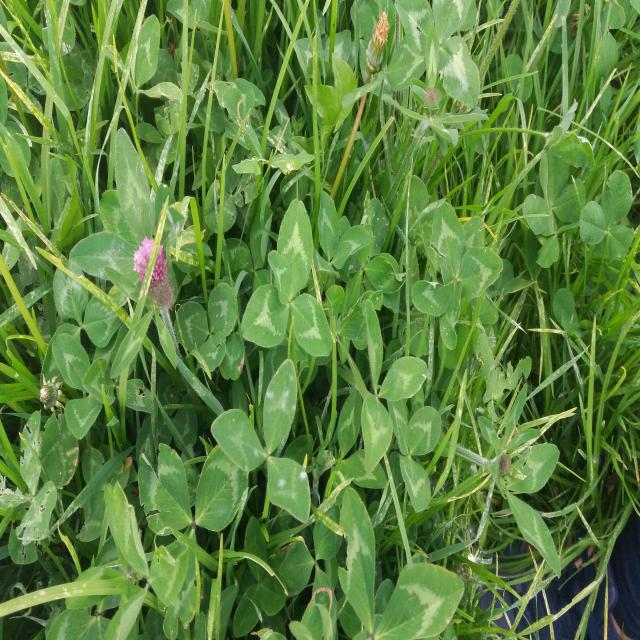Four Leaf Clover: (241, 198, 332, 358)
